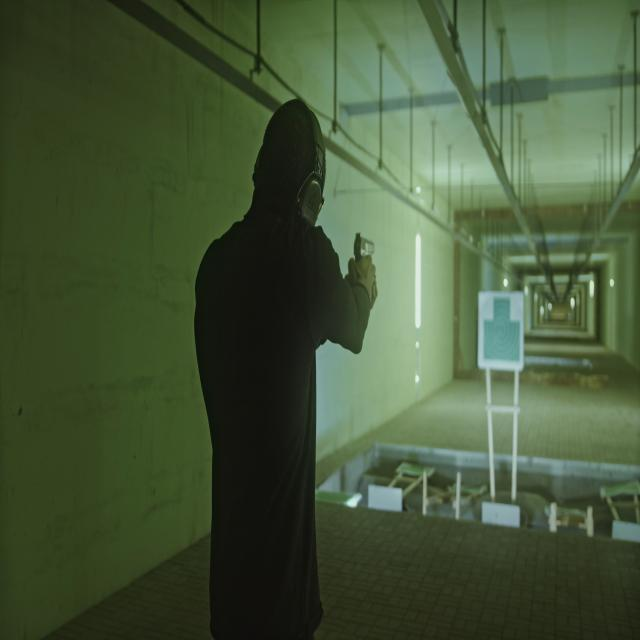Gun_Holder: (345, 227, 387, 309)
Person: (194, 92, 377, 637)
